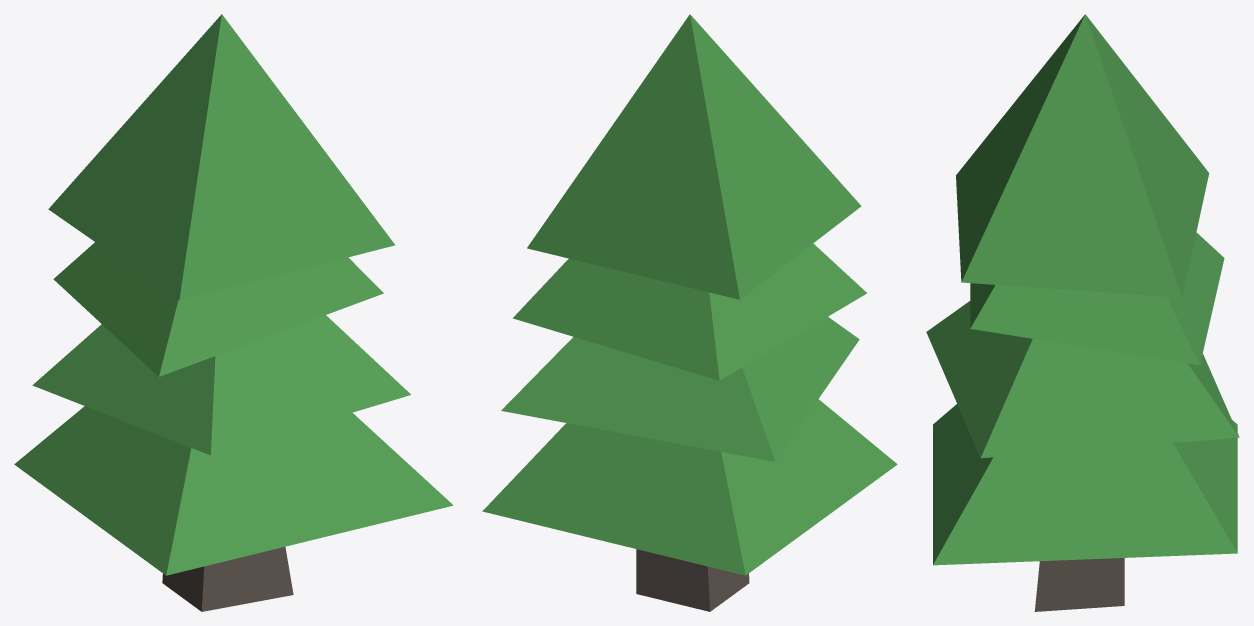
The model's file is Tree_1.obj.
The picture shows the model from 3 angles, left to right: view 1: azimuth 30°, elevation 25°; view 2: azimuth 150°, elevation 25°; view 3: azimuth 270°, elevation 25°; orthographic projection.
Parts seen in each view (by area): view 1: pPyramid4, pPyramid1, pPyramid2, pPyramid3, pCube1; view 2: pPyramid4, pPyramid1, pPyramid2, pPyramid3, pCube1; view 3: pPyramid4, pPyramid1, pPyramid2, pPyramid3, pCube1.
Part boxes in pixels (box(x1,y1,x2,y2)): pPyramid4: box(48, 14, 394, 300); pPyramid1: box(14, 406, 453, 575); pPyramid2: box(32, 315, 410, 455); pPyramid3: box(53, 242, 383, 376); pCube1: box(162, 547, 293, 611); pPyramid4: box(527, 14, 861, 299); pPyramid1: box(482, 399, 897, 575); pPyramid2: box(501, 317, 859, 461); pPyramid3: box(513, 243, 866, 380); pCube1: box(636, 549, 749, 611); pPyramid4: box(956, 14, 1209, 297); pPyramid1: box(933, 404, 1237, 565); pPyramid2: box(926, 301, 1239, 458); pPyramid3: box(970, 232, 1224, 365); pCube1: box(1034, 558, 1124, 611).
Bounding box in the file's own units: 12.7 × 23.74 × 11.72.
